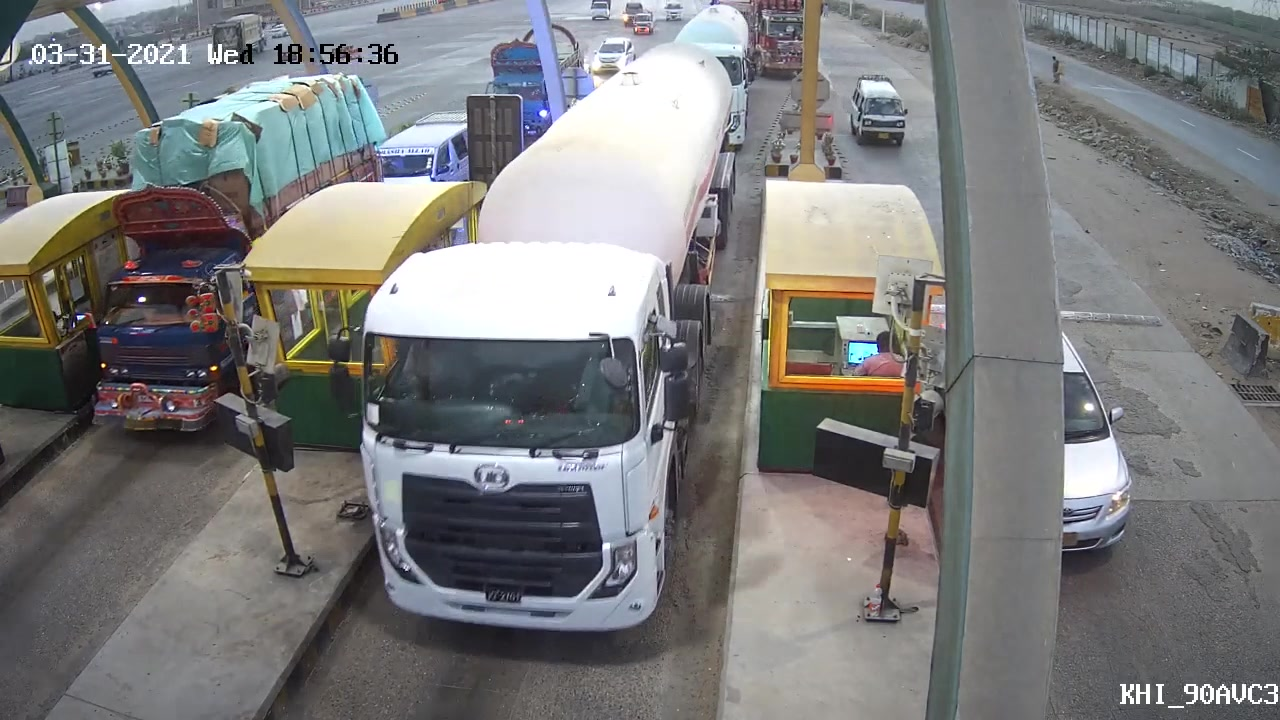F6: (344, 47, 753, 651)
